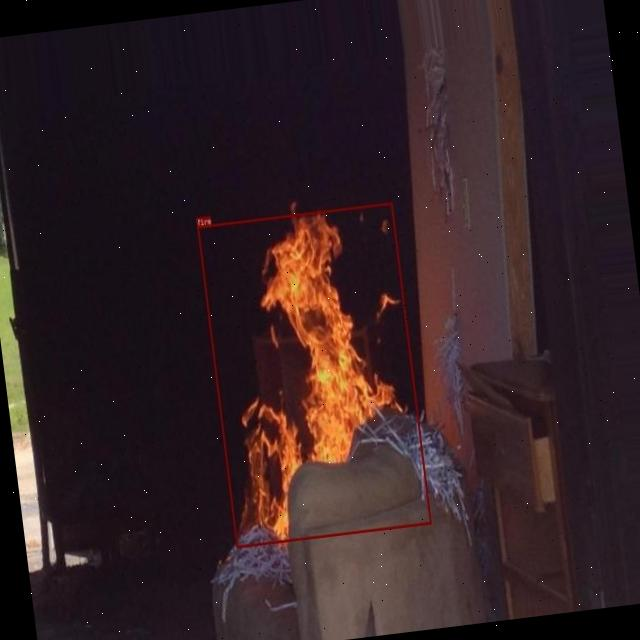fire: (197, 202, 430, 546)
